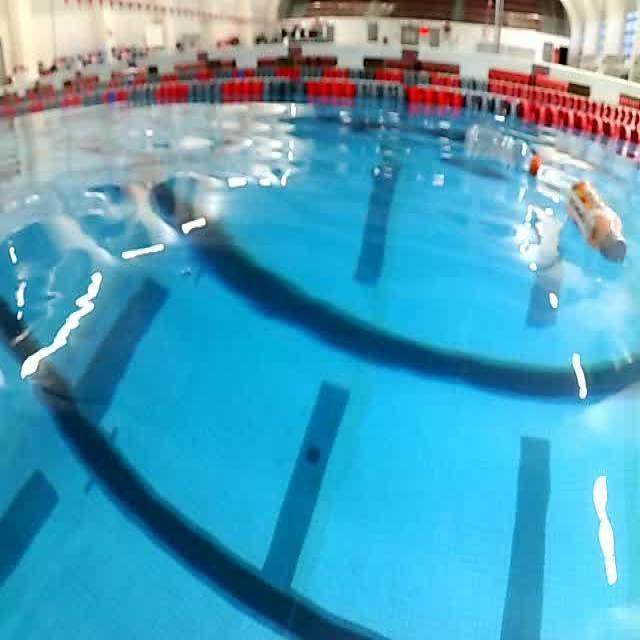Bottle: (558, 178, 633, 271), (459, 115, 550, 184)
